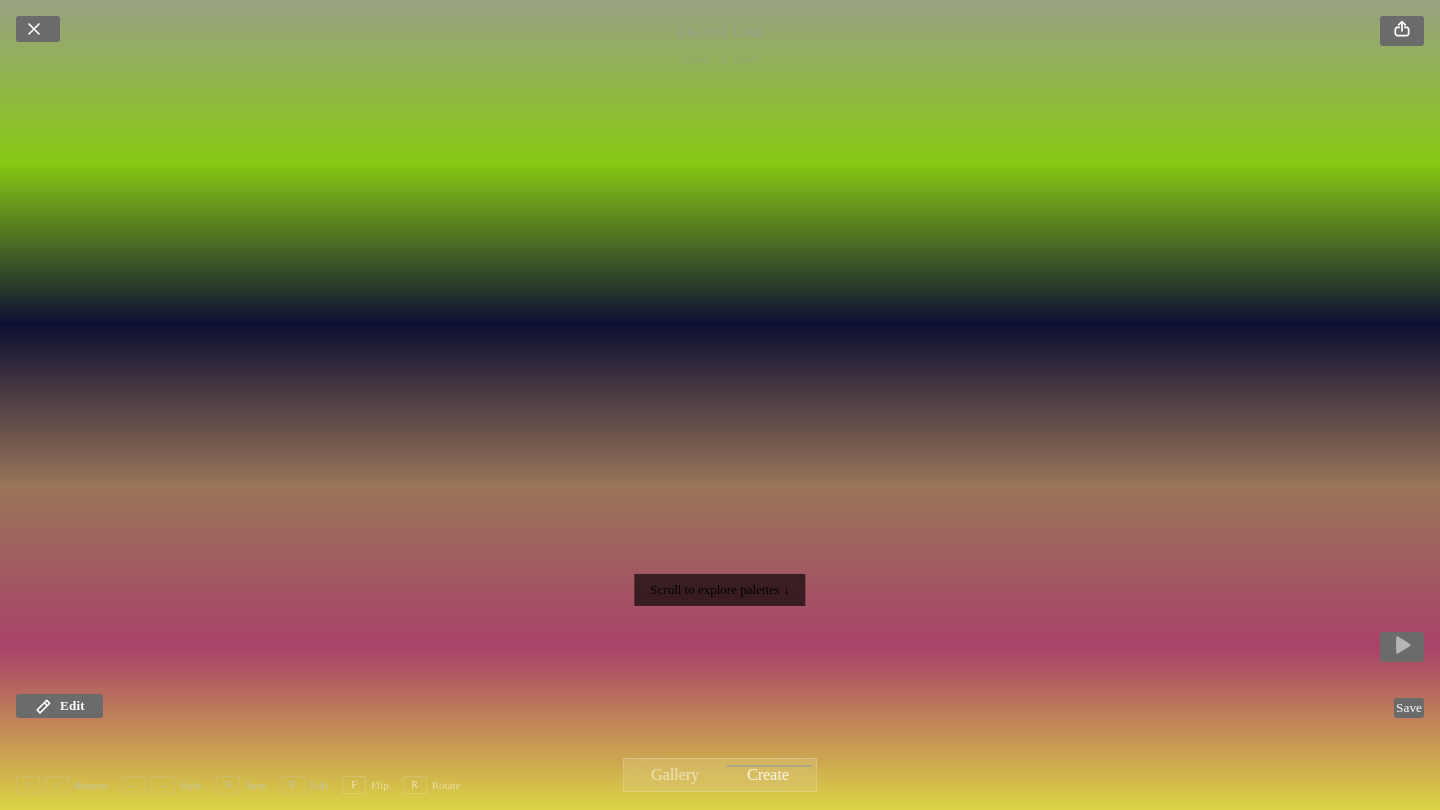
Scenario: App import flow › renders a thumbnail in the TabBar Gallery button once a gradient is saved
# Like/save current gradient
Click the button with test id "like-button" at (1409, 708), box [1394,698,1424,718]
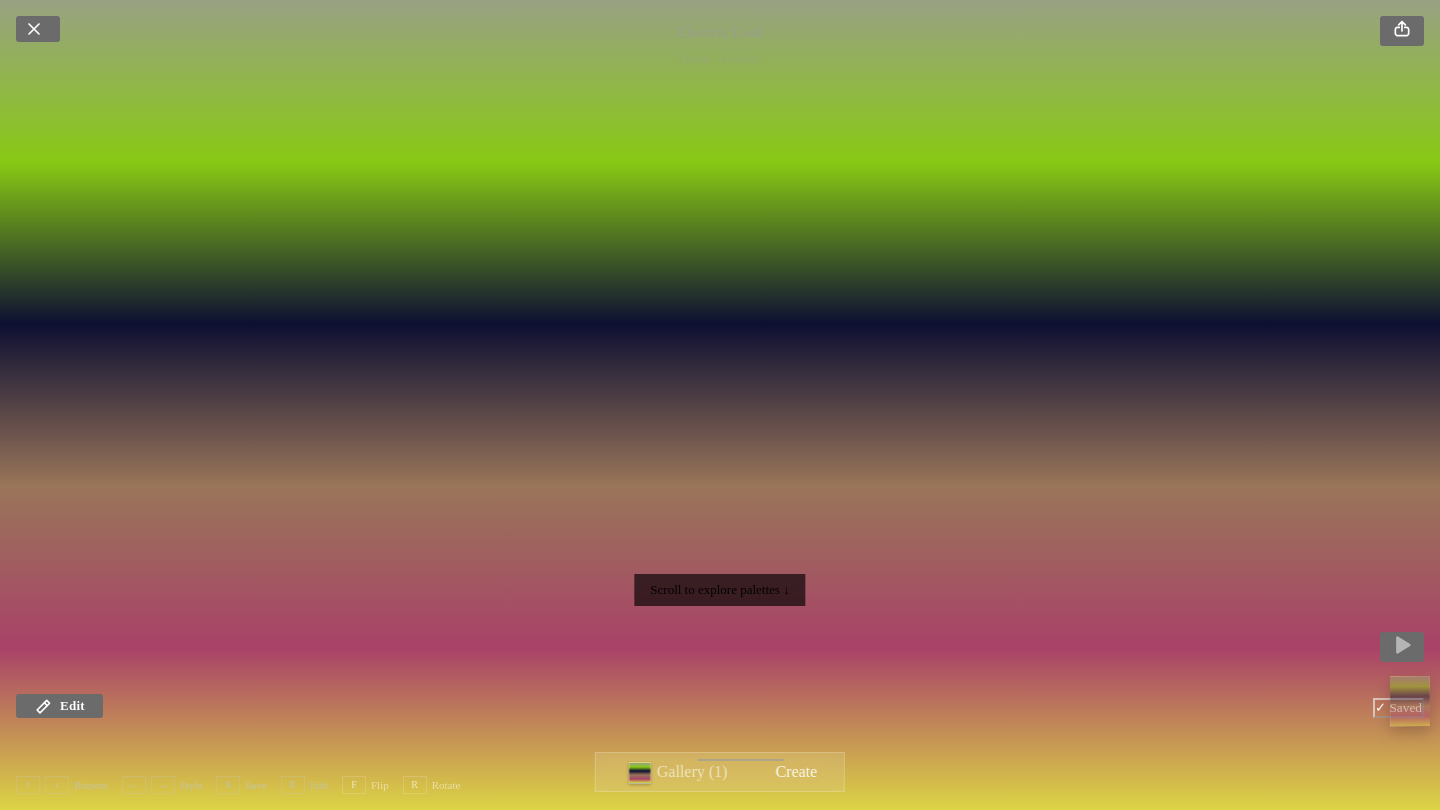
Expected: the element with test id "tab-gallery-thumb" is shown, [629,762,651,784]
